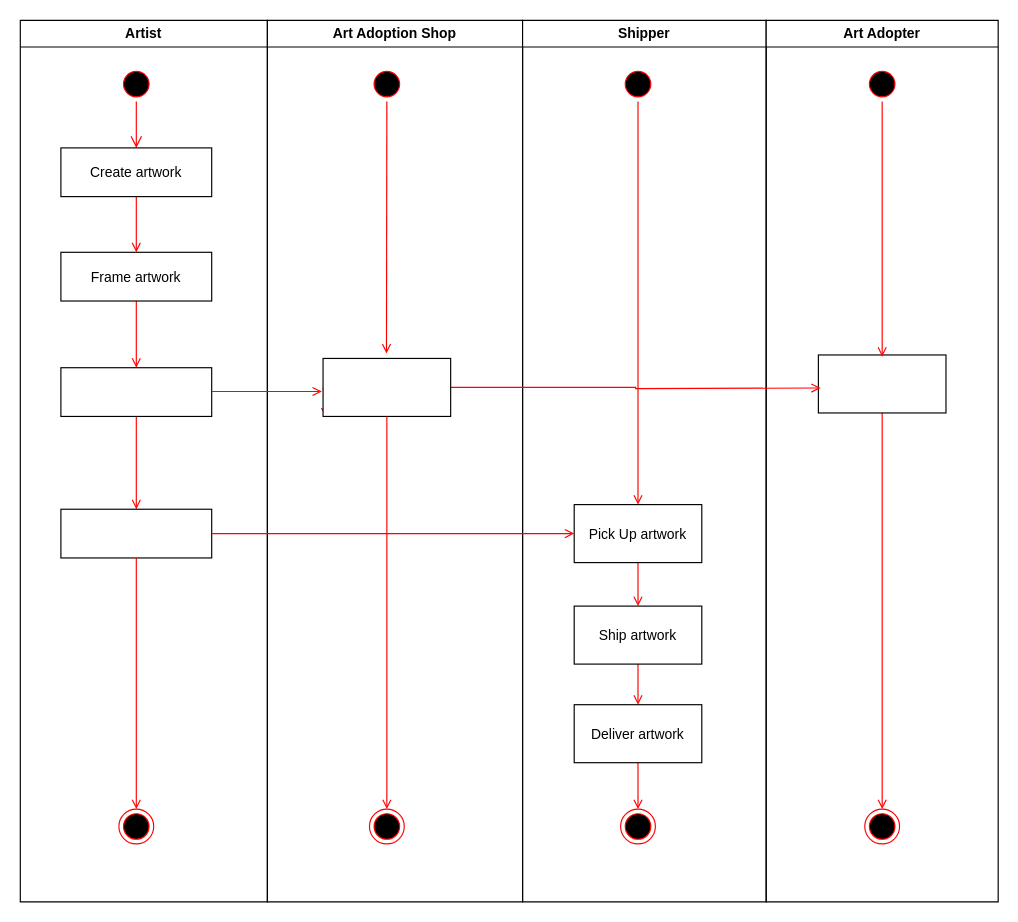
The diagram is 1018 pixels wide and 922 high, and some of its shapes have lost their labels. The shapes that lost their labels are listed below. From the top down, each one's centre as x and y in pixels, then its label:
At (136,391): "Put up for adoption".
At (386,386): "Add artwork".
At (881,383): "Adopt artwork".
At (136,533): "Pack artwork".
